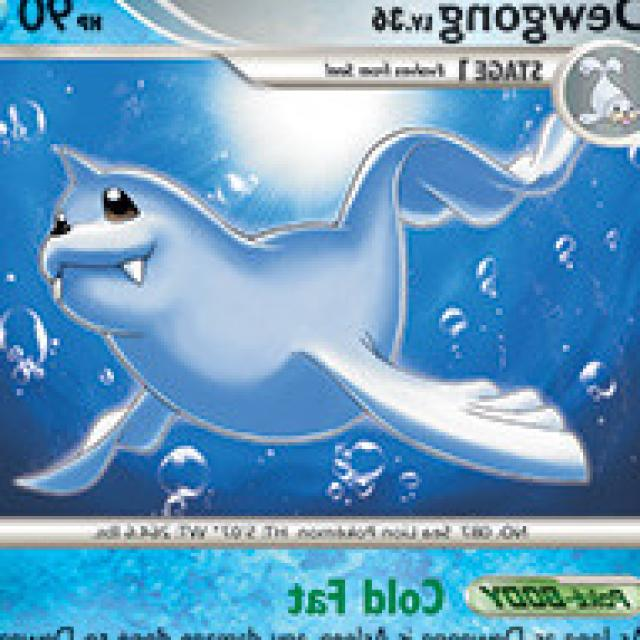Dewgong: (36, 126, 456, 434), (571, 56, 640, 129)
